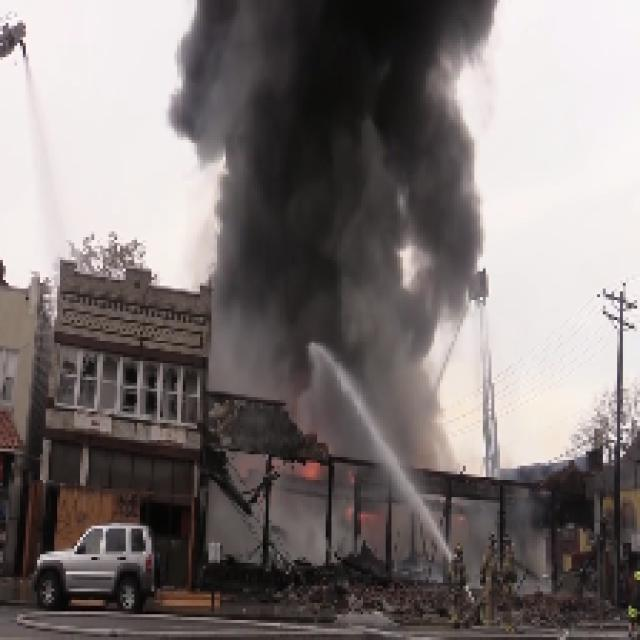Smoke: (186, 2, 472, 332), (394, 339, 472, 452)
